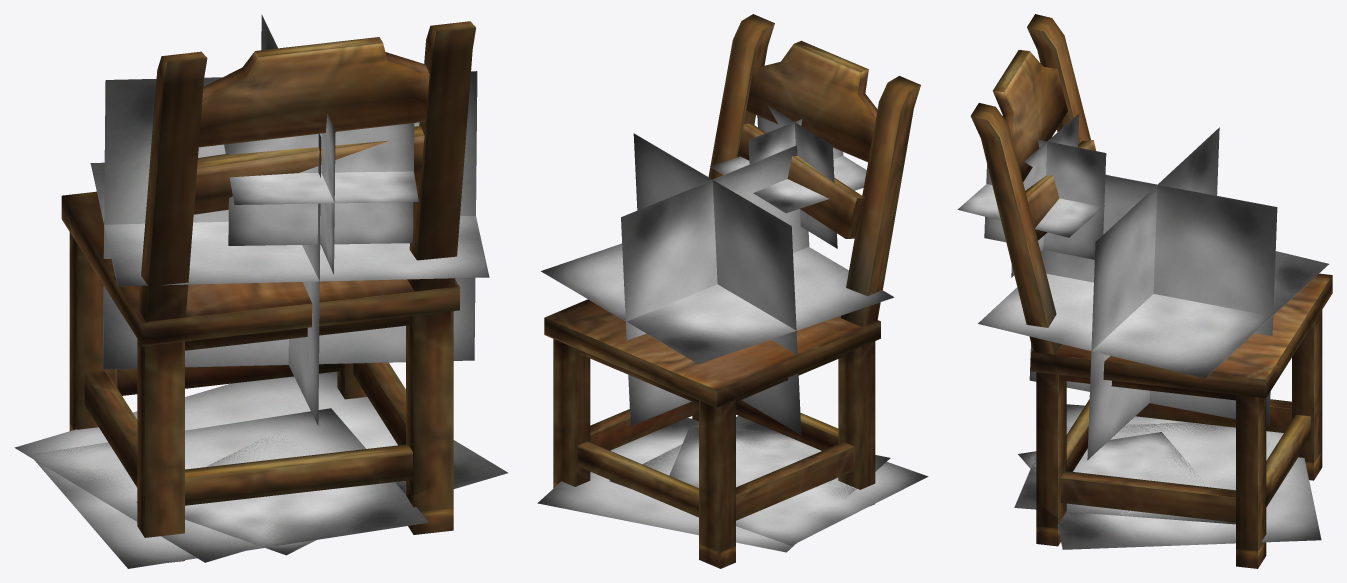
Rendered from c_SWGchair02A_b01.glb.
3 views of the same model, side by side, from view 1: azimuth 30°, elevation 25°; view 2: azimuth 150°, elevation 25°; view 3: azimuth 270°, elevation 25° (orthographic). The views are drawn at different scales.
Parts seen in each view (by area): view 1: c_SWGchair02A_b01; view 2: c_SWGchair02A_b01; view 3: c_SWGchair02A_b01.
Boxes of the visible parts, <box> form: c_SWGchair02A_b01: <box>14,14,507,568</box>; c_SWGchair02A_b01: <box>537,14,928,568</box>; c_SWGchair02A_b01: <box>957,14,1332,568</box>.
Size of the model in its own units: 0.7912 by 0.9494 by 0.7679.
2 materials, 2 textured.
